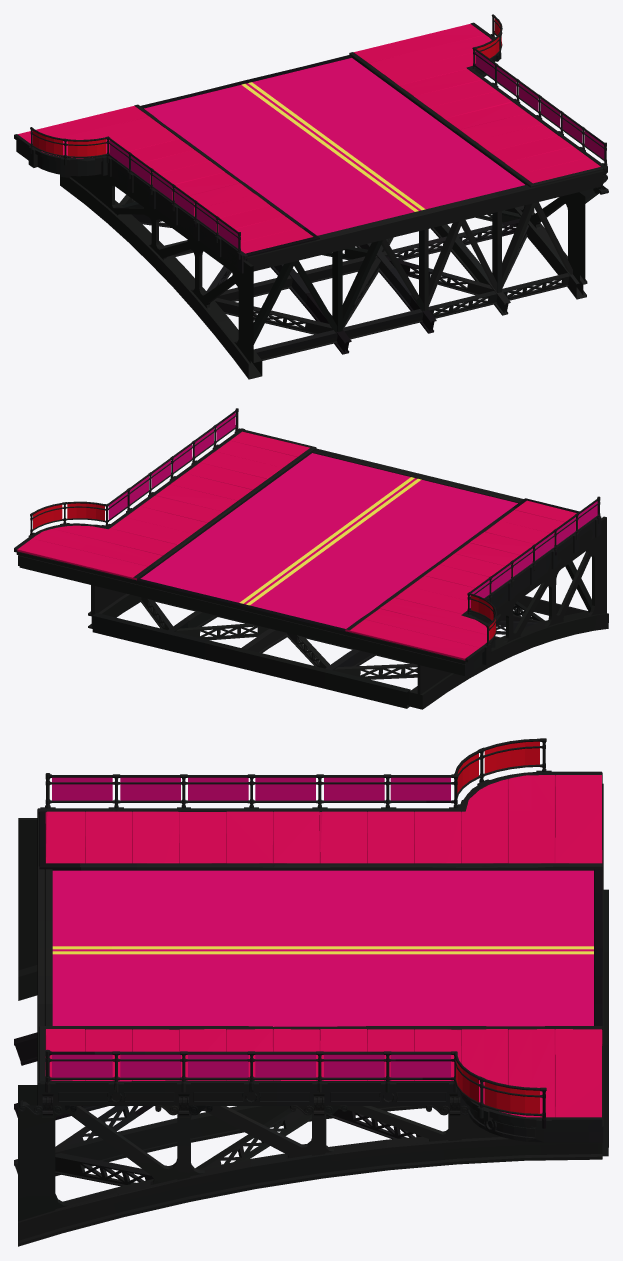
Rendered from Bridge00.fbx.
3 views of the same model, one above another, from view 1: azimuth 30°, elevation 25°; view 2: azimuth 150°, elevation 25°; view 3: azimuth 270°, elevation 25° (orthographic). The views are drawn at different scales.
Parts seen in each view (by area): view 1: SM_City_Bridge_01.mo; view 2: SM_City_Bridge_01.mo; view 3: SM_City_Bridge_01.mo.
Part boxes in pixels (box(x1,y1,x2,y2)): SM_City_Bridge_01.mo: box(14, 14, 608, 379); SM_City_Bridge_01.mo: box(14, 408, 608, 709); SM_City_Bridge_01.mo: box(14, 738, 608, 1246).
Bounding box in the file's own units: 2249 × 649 × 1611.
